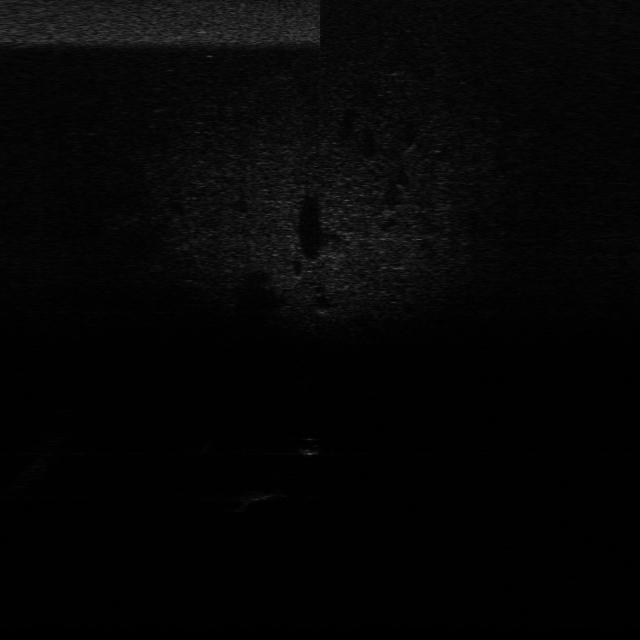ball: (298, 438, 324, 458)
square cage: (237, 486, 289, 506)
